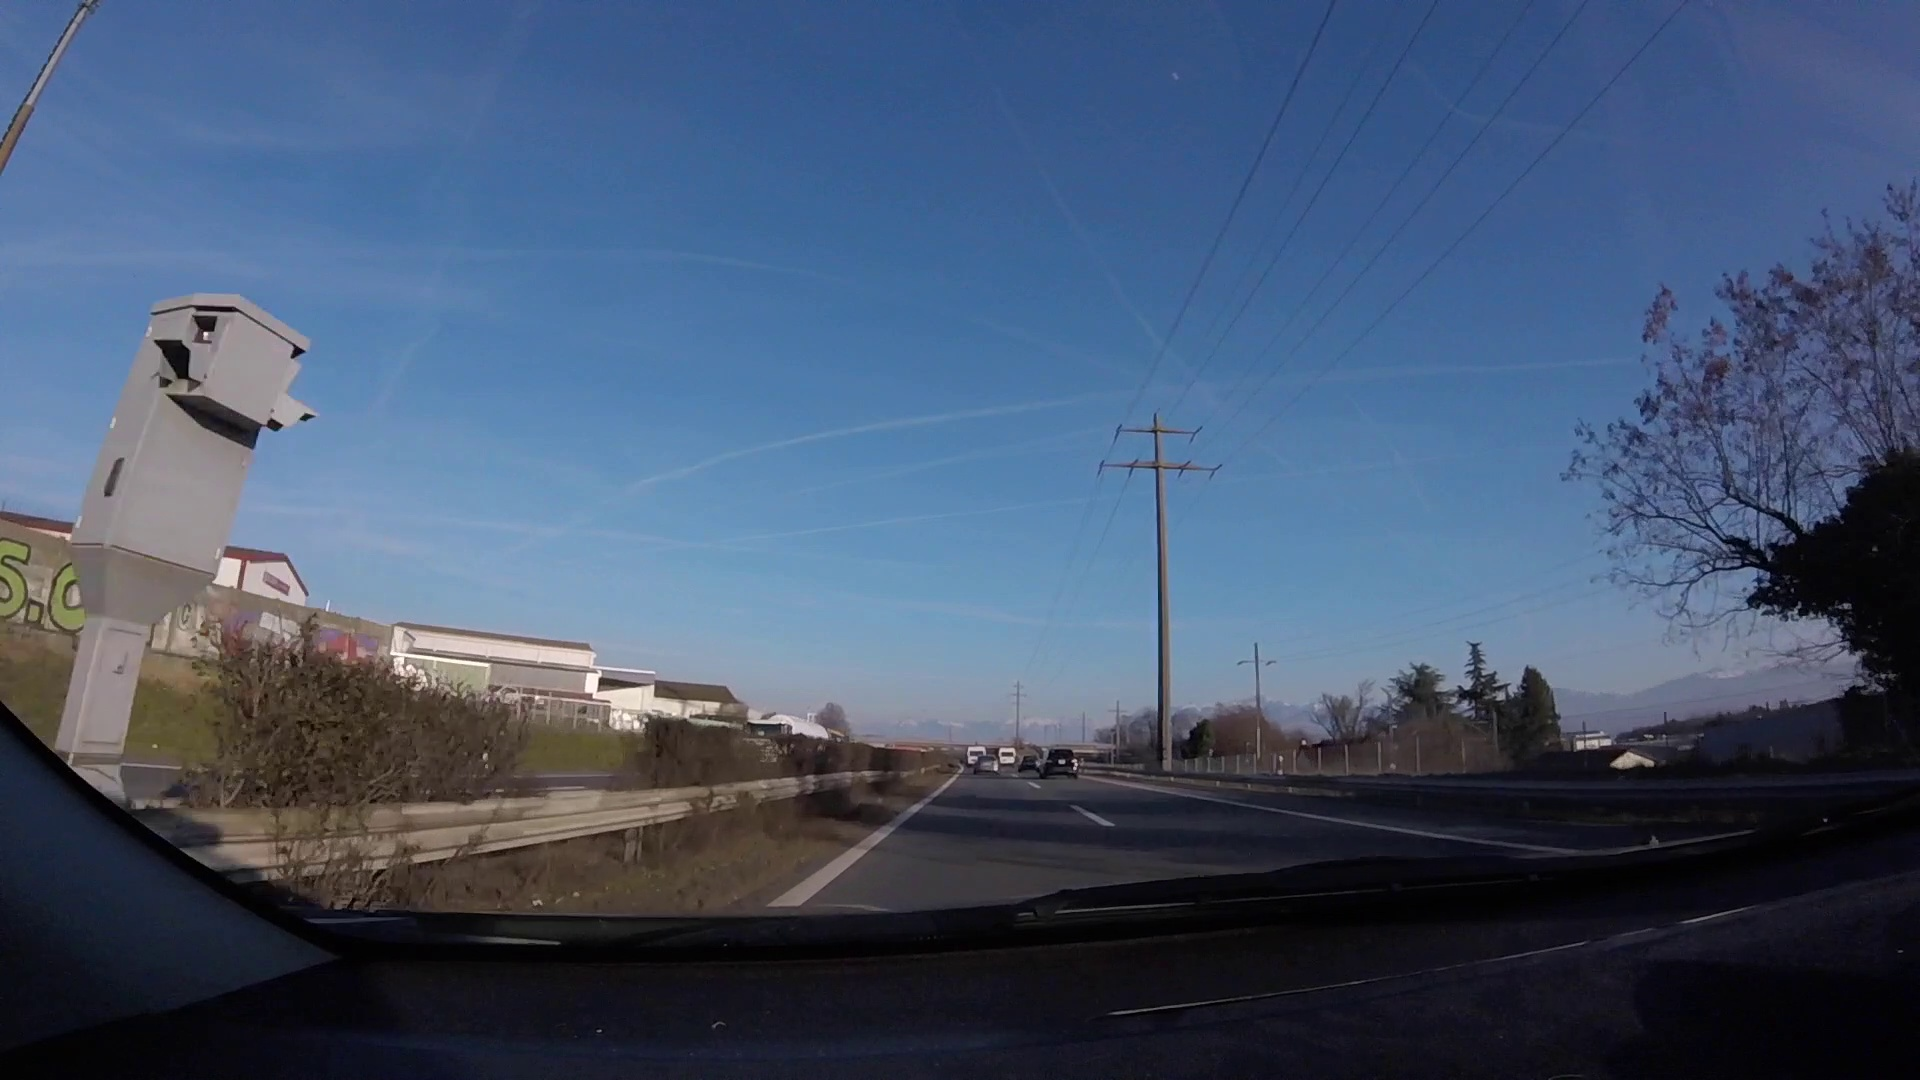radar: (66, 291, 318, 742)
